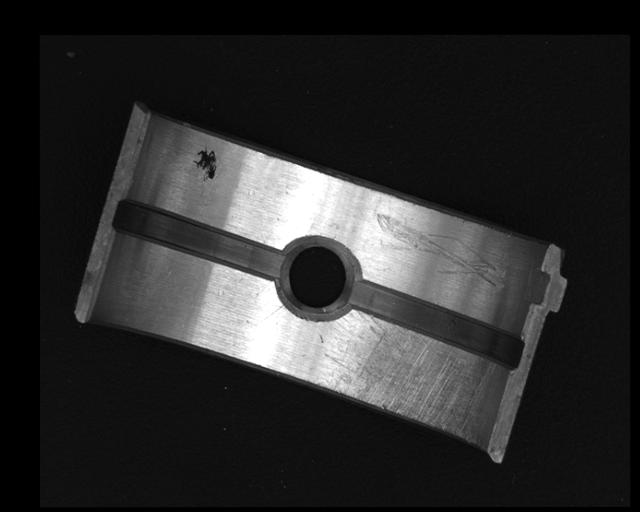blot: (191, 146, 219, 182)
gap: (346, 278, 524, 371), (112, 196, 285, 278)
hole: (280, 238, 352, 312)
nick: (373, 212, 502, 289)
scratch: (323, 305, 491, 445)
